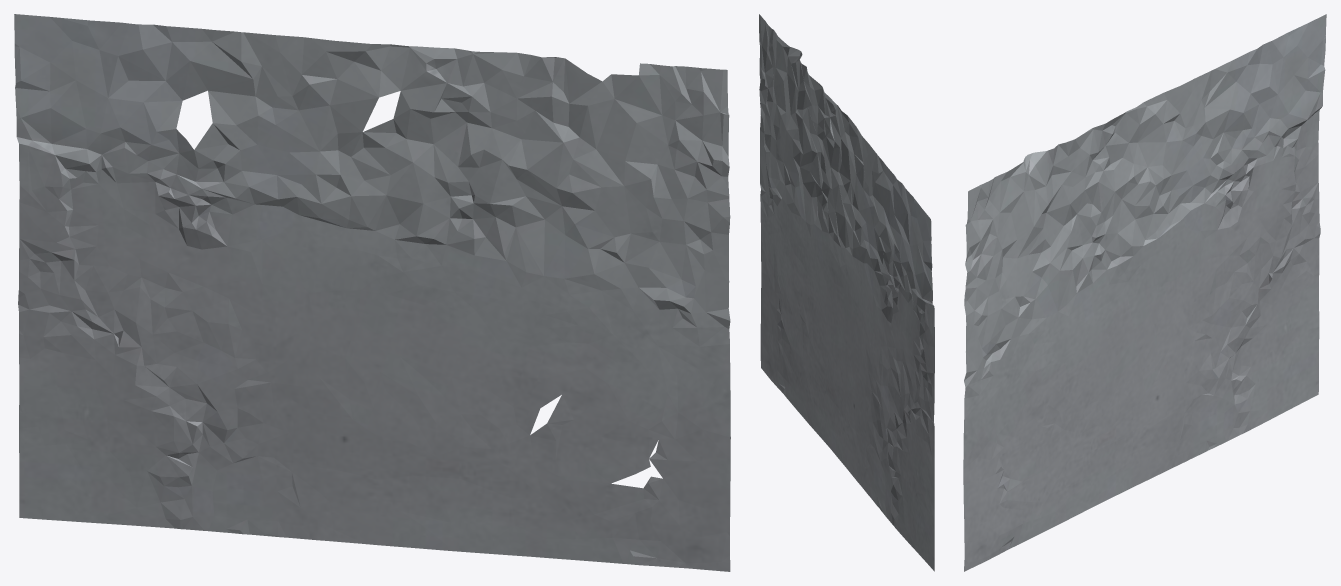
The picture shows the model from 3 angles, left to right: view 1: azimuth 30°, elevation 25°; view 2: azimuth 150°, elevation 25°; view 3: azimuth 270°, elevation 25°; orthographic projection. The views are drawn at different scales.
Bounding box in the file's own units: 1.67 × 1.67 × 1.45.
Materials: 3 (3 with a texture image).
